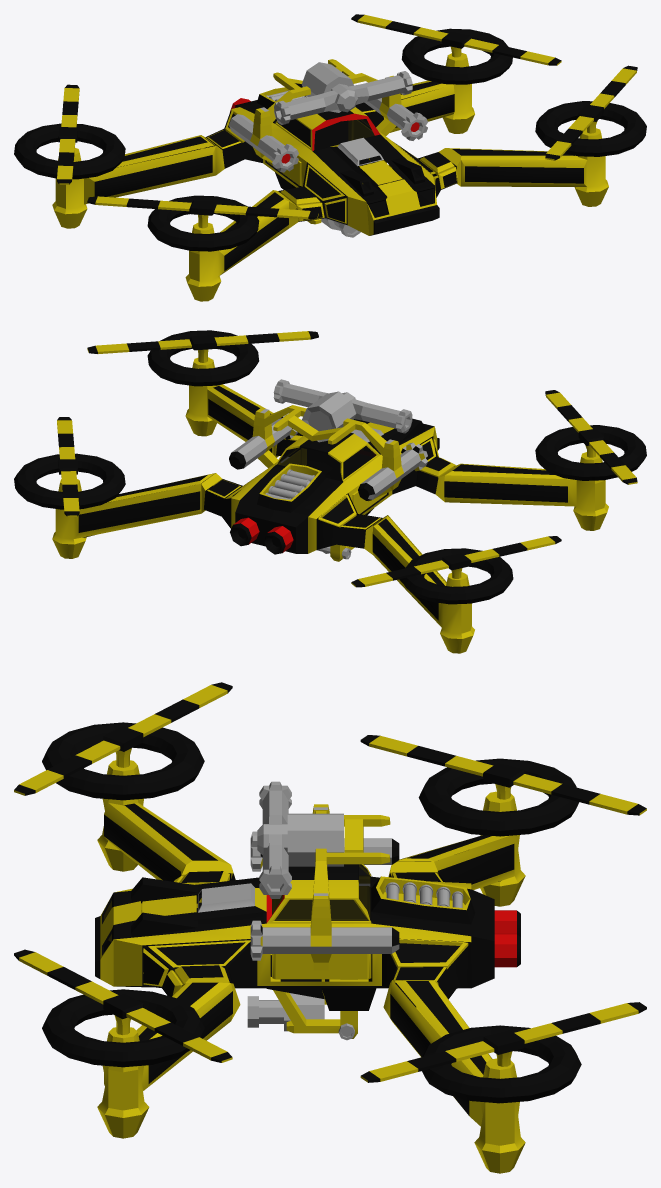
File: Drone2.obj
3 views of the same model, one above another, from view 1: azimuth 30°, elevation 25°; view 2: azimuth 150°, elevation 25°; view 3: azimuth 270°, elevation 25° (orthographic). The views are drawn at different scales.
Visible parts, largest first — view 1: drone_costum_Cube; view 2: drone_costum_Cube; view 3: drone_costum_Cube.
Part boxes in pixels (x1,y1,x2,y2): drone_costum_Cube: [14, 14, 646, 301]; drone_costum_Cube: [14, 330, 646, 653]; drone_costum_Cube: [14, 682, 646, 1173].
Size of the model in its own units: 12.4 by 3.35 by 8.76.
